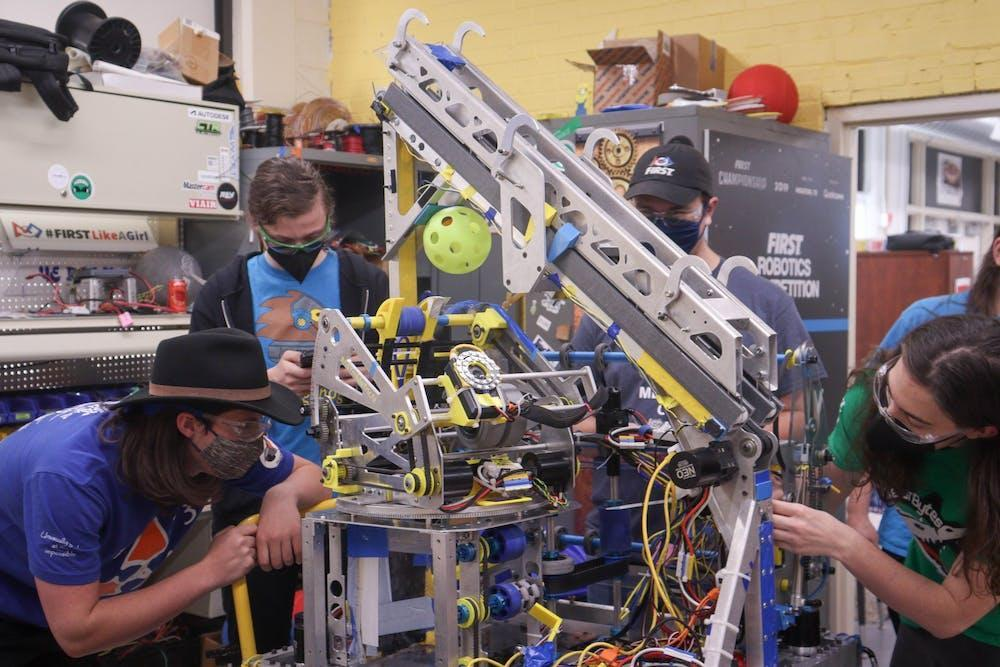robot: (291, 1, 788, 667)
